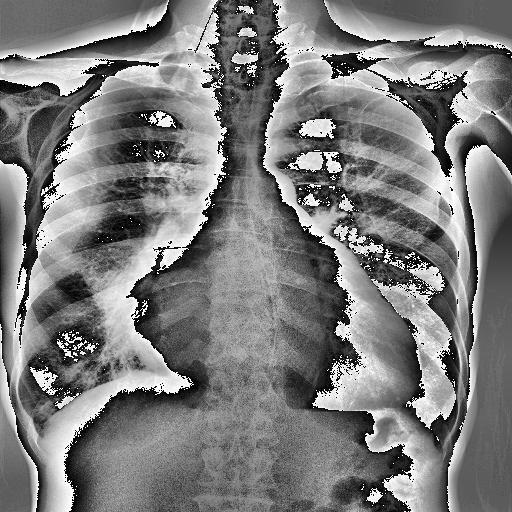10- Pleural effusion: (28, 415, 48, 440), (427, 438, 449, 460)
11- Pleural thickening: (28, 415, 48, 440), (427, 438, 449, 460)
3- Cardiomegaly: (132, 264, 422, 408), (129, 290, 421, 410), (122, 311, 424, 405)
9- Other lesion: (322, 118, 412, 231), (68, 108, 186, 191), (98, 216, 180, 306)
